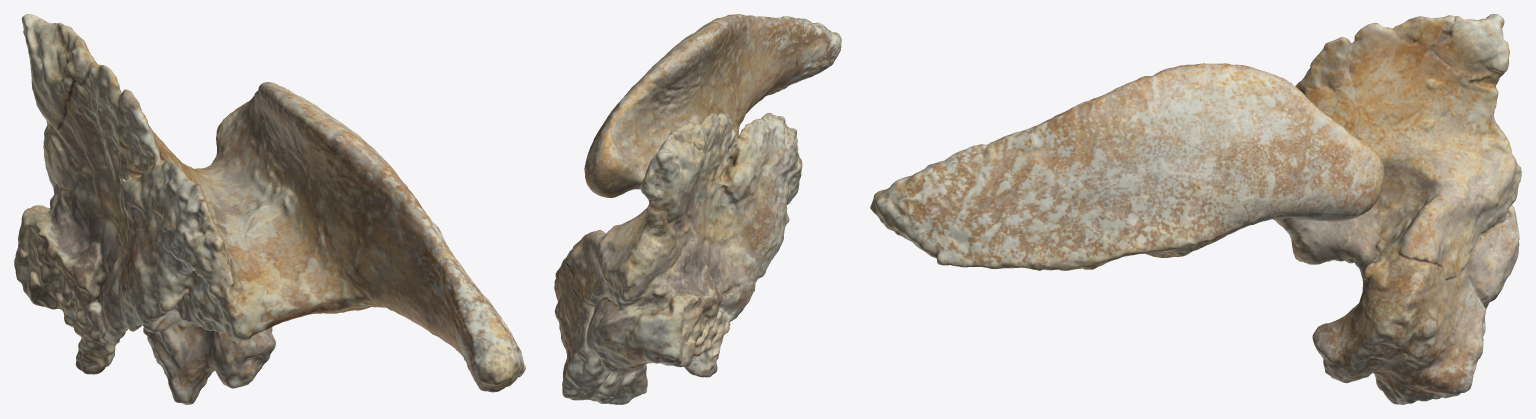
3 renders of one model, left to right at view 1: azimuth 30°, elevation 25°; view 2: azimuth 150°, elevation 25°; view 3: azimuth 270°, elevation 25°, orthographic. The views are drawn at different scales.
Parts seen in each view (by area): view 1: Fossil_Sea_Cow_from_Al_Maszhabiya-150k; view 2: Fossil_Sea_Cow_from_Al_Maszhabiya-150k; view 3: Fossil_Sea_Cow_from_Al_Maszhabiya-150k.
Boxes of the visible parts, x1=… form: Fossil_Sea_Cow_from_Al_Maszhabiya-150k: x1=14, y1=14, x2=525, y2=404; Fossil_Sea_Cow_from_Al_Maszhabiya-150k: x1=554, y1=14, x2=841, y2=404; Fossil_Sea_Cow_from_Al_Maszhabiya-150k: x1=870, y1=14, x2=1521, y2=404.
Bounding box in the file's own units: 0.0559 × 0.0843 × 0.1439.
1 material, 1 textured.
